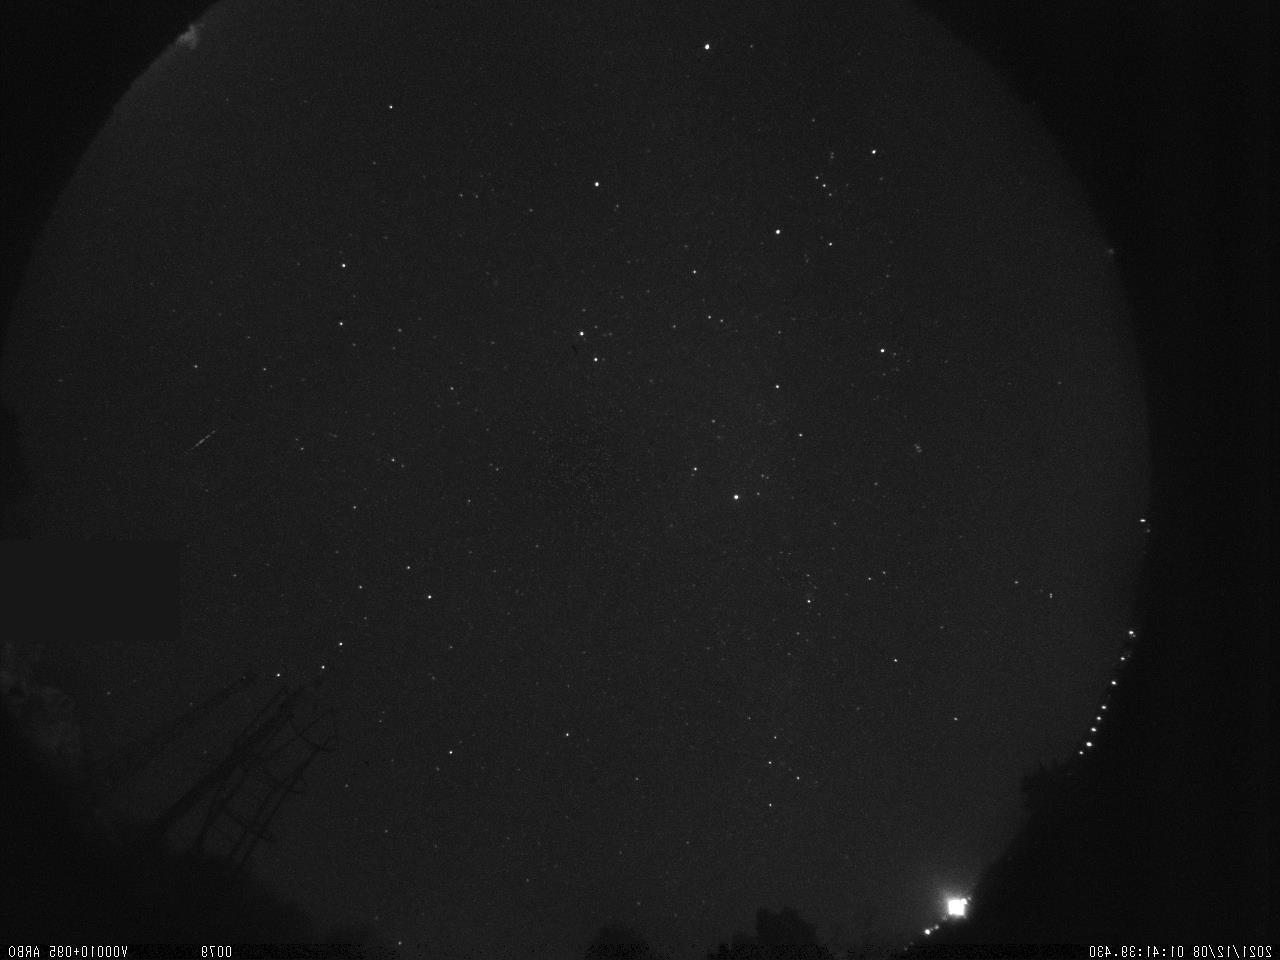meteor: (178, 418, 228, 462)
